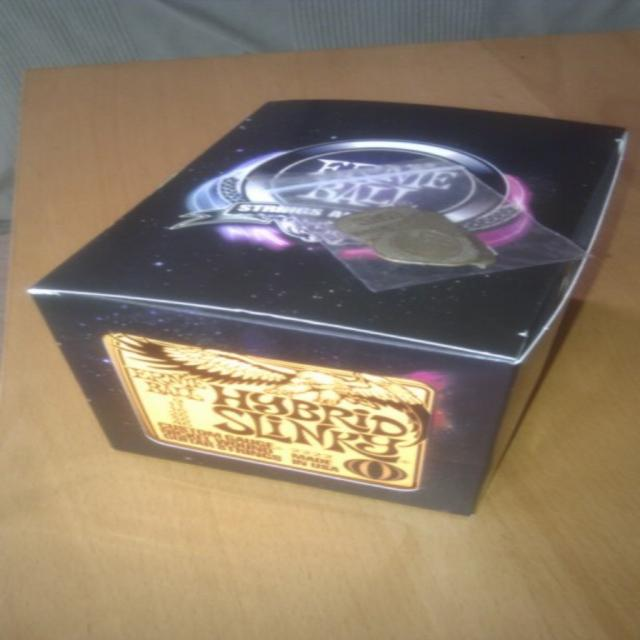Box: (37, 97, 623, 518)
